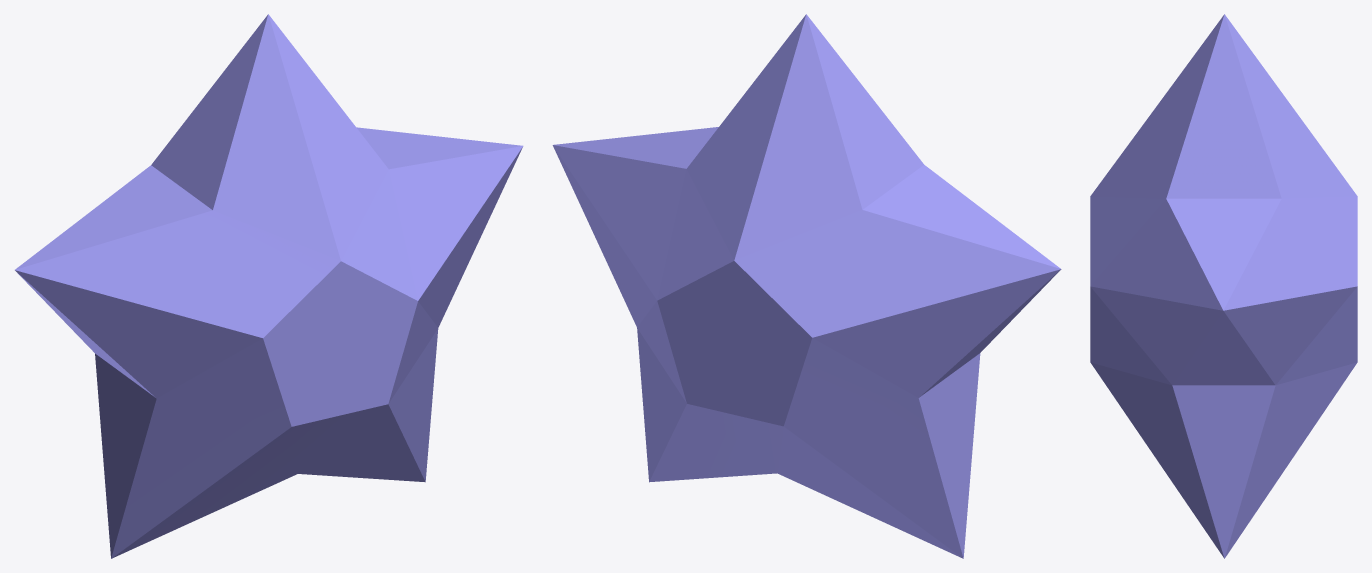
Rendered from crystalstar.obj.
3 renders of one model, left to right at view 1: azimuth 30°, elevation 25°; view 2: azimuth 150°, elevation 25°; view 3: azimuth 270°, elevation 25°, orthographic. The views are drawn at different scales.
Parts seen in each view (by area): view 1: Crystal_Star_Diamond_Star_Circle.001; view 2: Crystal_Star_Diamond_Star_Circle.001; view 3: Crystal_Star_Diamond_Star_Circle.001.
Boxes of the visible parts, left/top/right/bottom form: Crystal_Star_Diamond_Star_Circle.001: left=15, top=14, right=523, bottom=558; Crystal_Star_Diamond_Star_Circle.001: left=552, top=14, right=1061, bottom=558; Crystal_Star_Diamond_Star_Circle.001: left=1090, top=14, right=1357, bottom=558.
Size of the model in its own units: 1.54 by 1.47 by 0.7516.
1 material, 1 textured.
